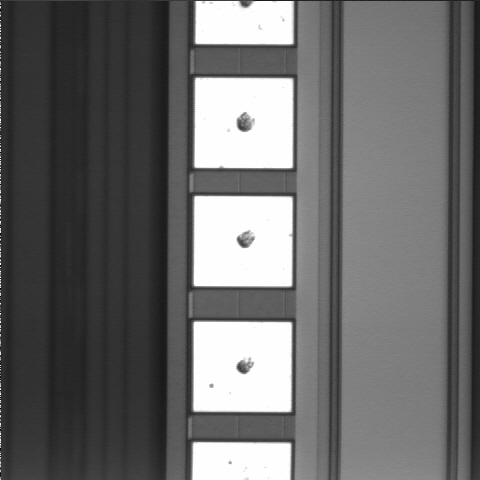pad: (194, 196, 293, 286), (193, 322, 292, 412), (195, 78, 293, 168)
